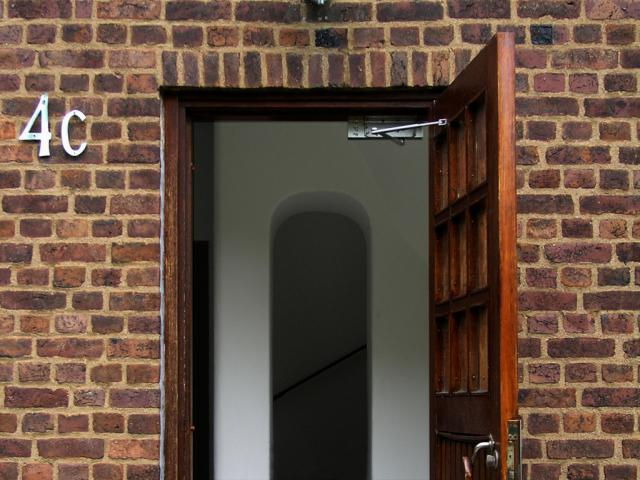Door-handle: (462, 434, 496, 480)
